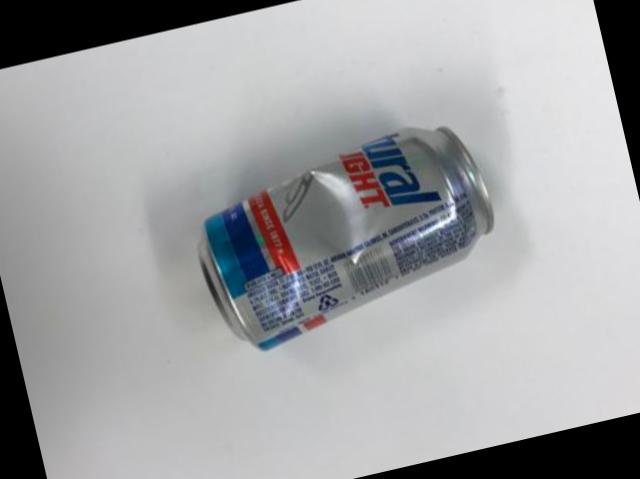metal: (201, 128, 495, 349)
